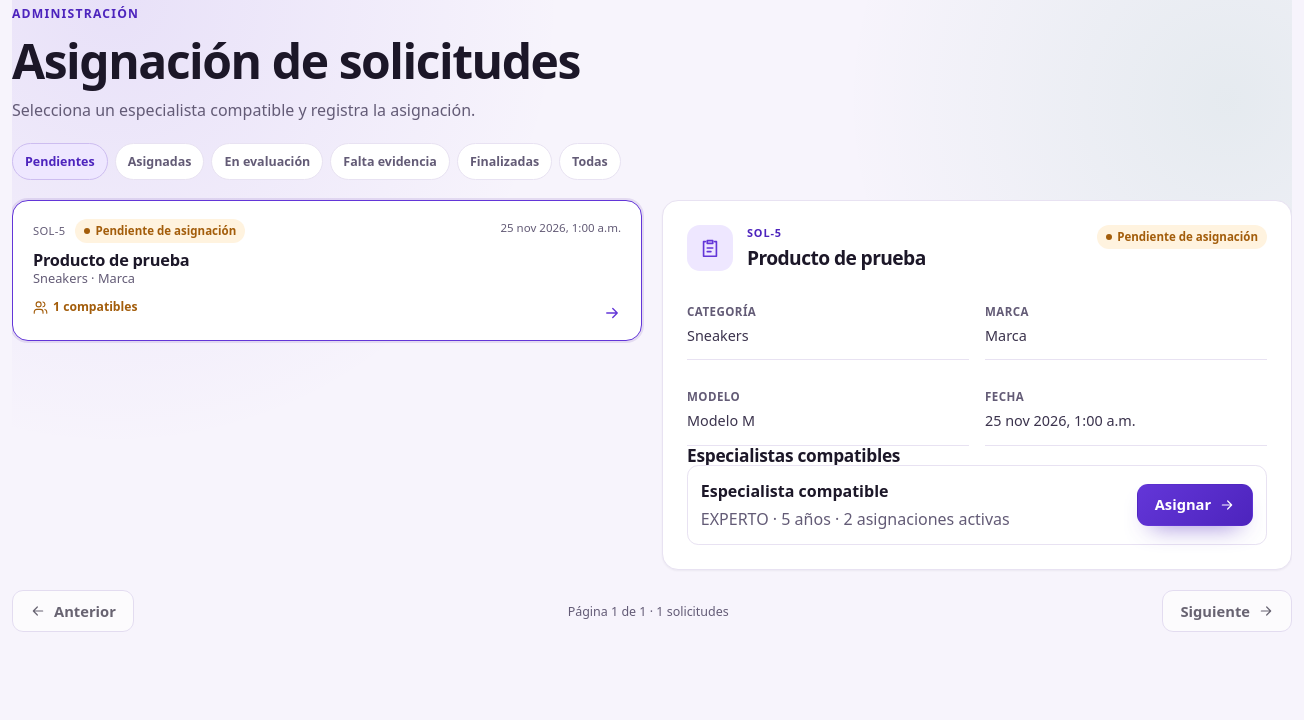
AdminAssignmentsPage › consulta la solicitud y asigna el especialista compatible
Expected: the 1st text "SOL-5" is shown, [33,222,65,240]
Expected: the text "Especialista compatible" is shown, [701,480,888,502]
Click the button "Asignar".
click(1195, 505)  # box [1137,484,1253,526]
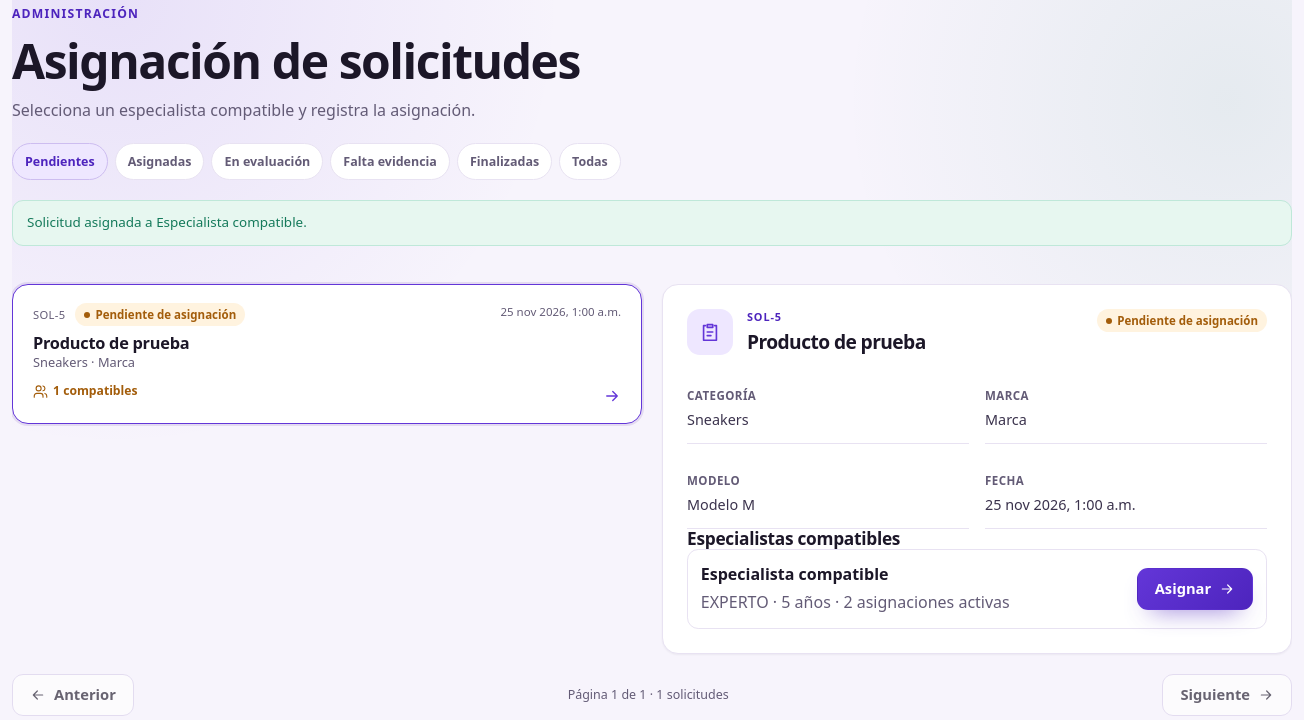
Result: the text "Solicitud asignada a Especialista compatible." is shown at [12,200,1292,246]
